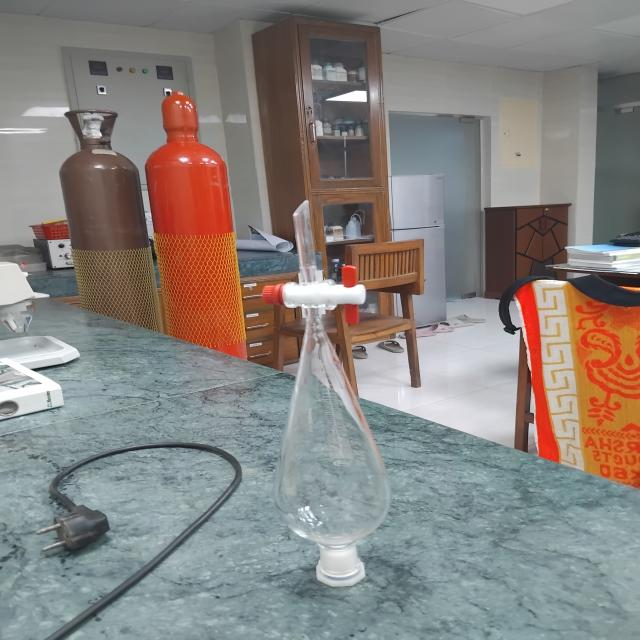Separating_Funnel: (234, 182, 428, 604)
